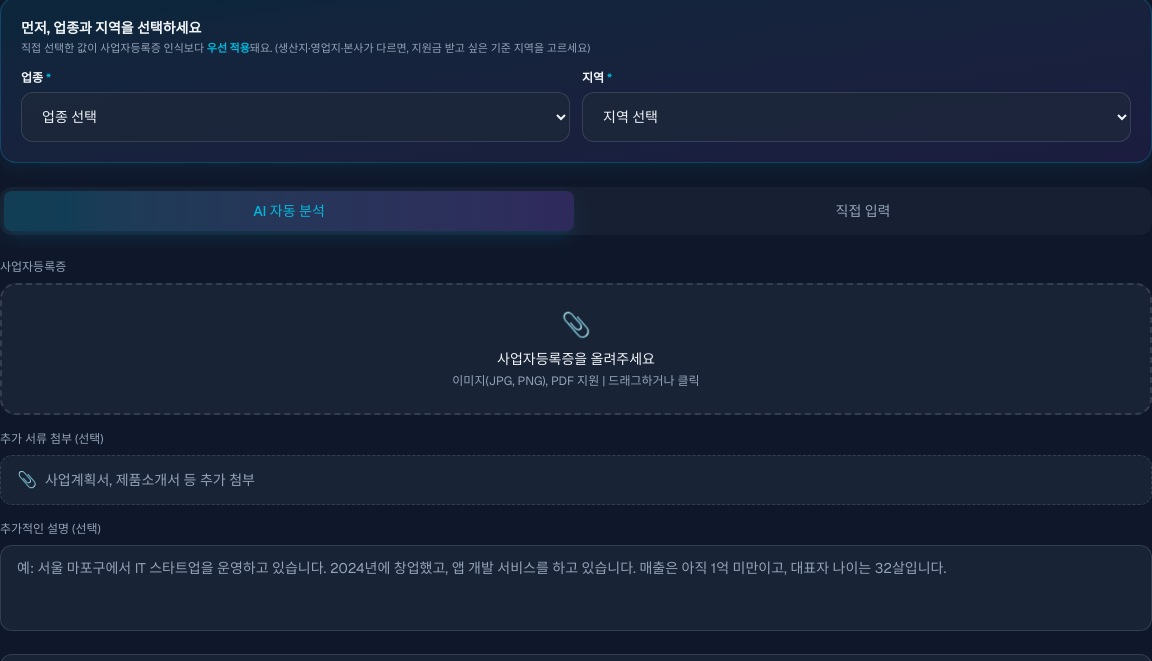
it: ConditionForm: AI 분석 fetch › 분석 성공 시 키워드가 태그로 노출
Replace the text in the text box with placeholder "서울 마포구에서 IT 스타트업" with "테스트": (576, 588) [0,545,1151,631]
(page scrolled)
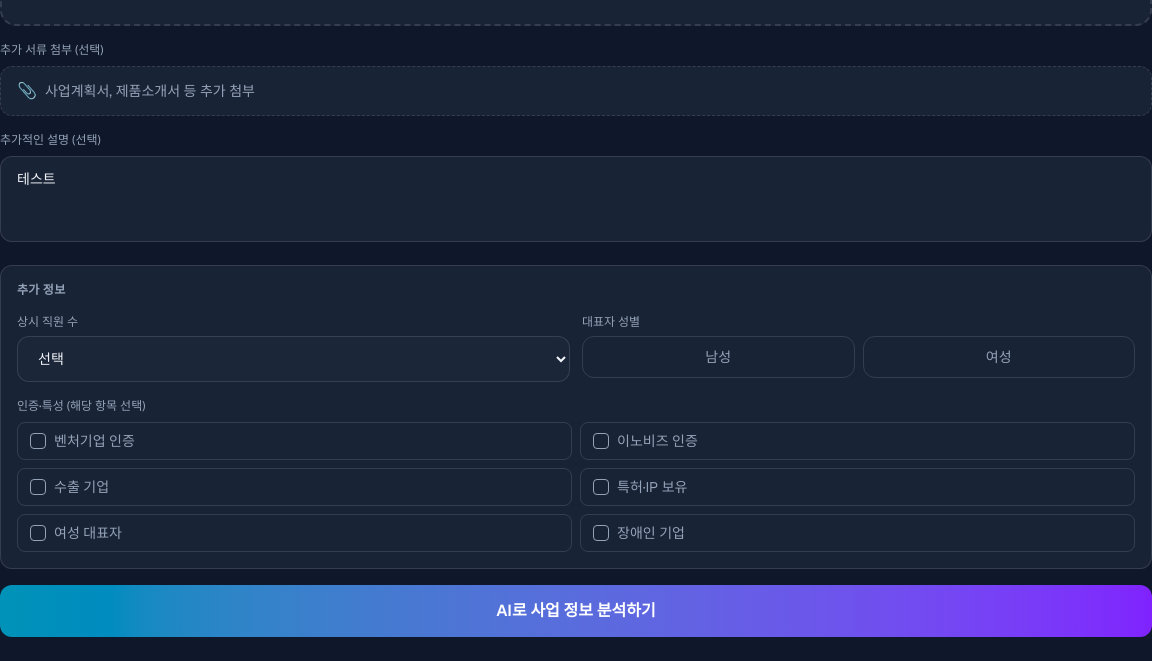
Click the button "AI로 사업 정보 분석하기": (576, 611) [0,585,1151,637]
(page scrolled)
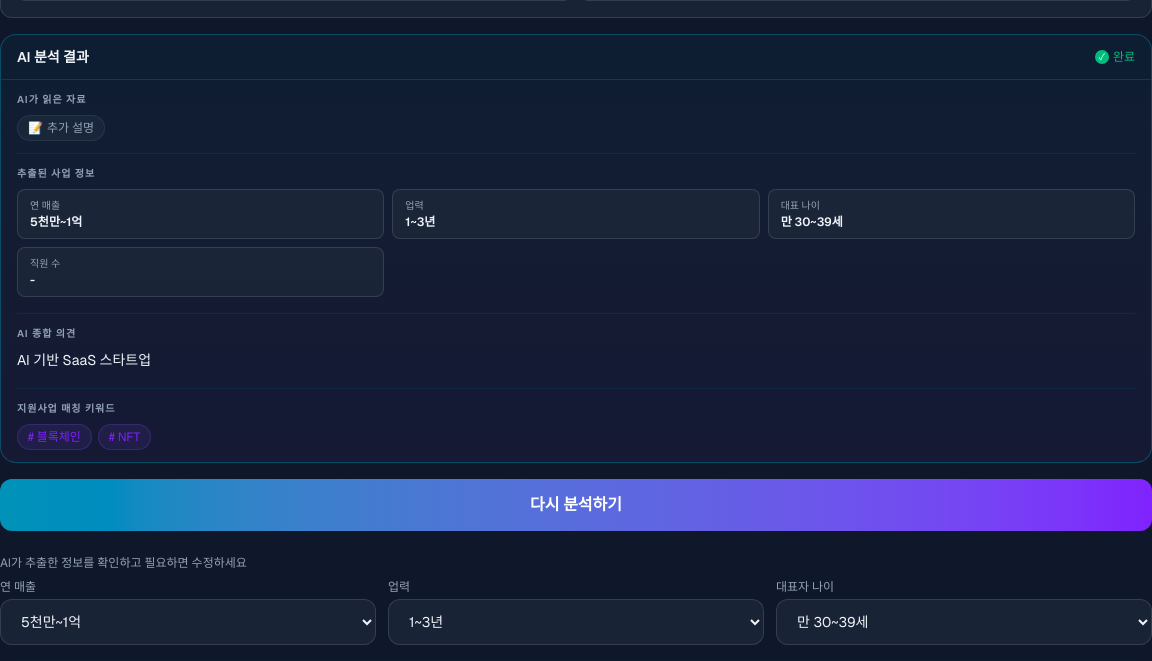
Expected: the text "# 블록체인" is shown, [17,424,92,450]
Expected: the text "# NFT" is shown, [98,424,151,450]
